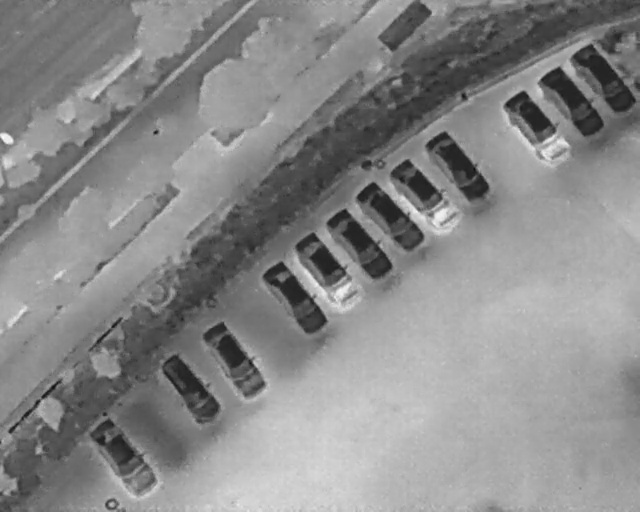Car: (75, 402, 168, 508), (383, 152, 468, 239), (348, 174, 432, 260), (286, 225, 367, 314), (319, 201, 400, 290), (254, 255, 335, 343), (495, 83, 575, 171), (196, 315, 272, 405), (152, 344, 228, 433), (418, 125, 495, 210), (534, 60, 610, 144), (566, 39, 639, 119)
